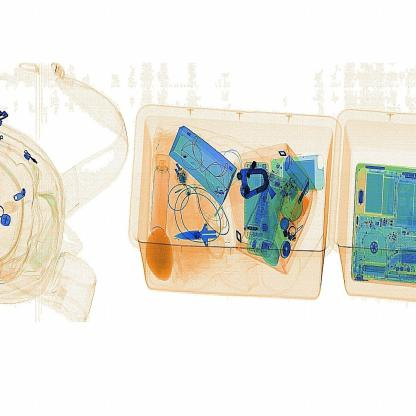gun: (176, 209, 240, 270)
